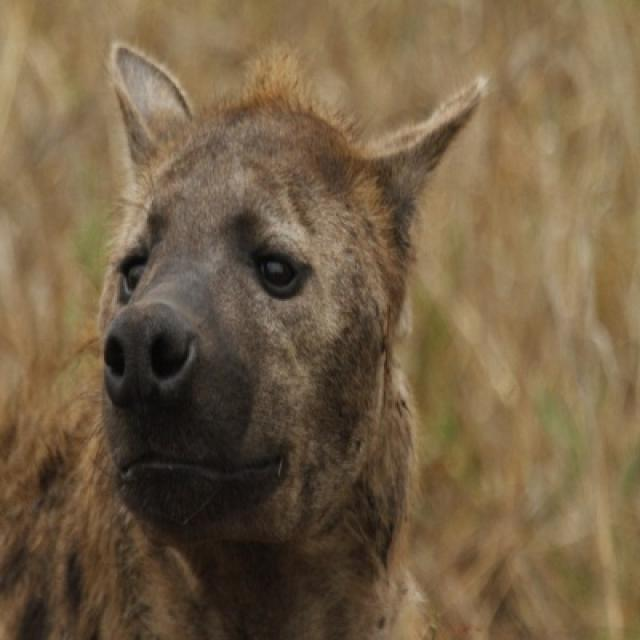hyena: (0, 43, 486, 638)
